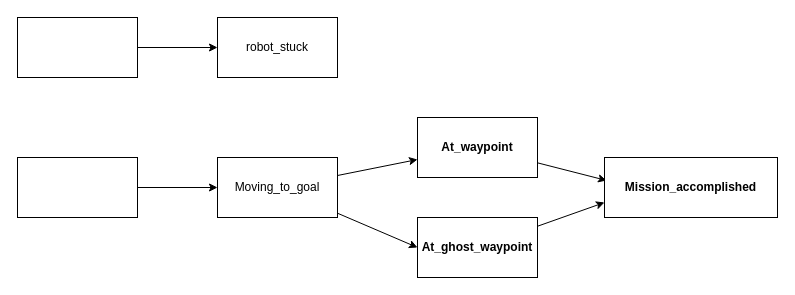
Some shapes in this 795 by 295 pixel diagram are drawn without their labels. The shapes that lost their labels are listed below. From the top down, each one's box as (x1, y1, x2, y2) in pixels, then its label:
(16, 16, 138, 78): Any state
(16, 156, 138, 218): Init
